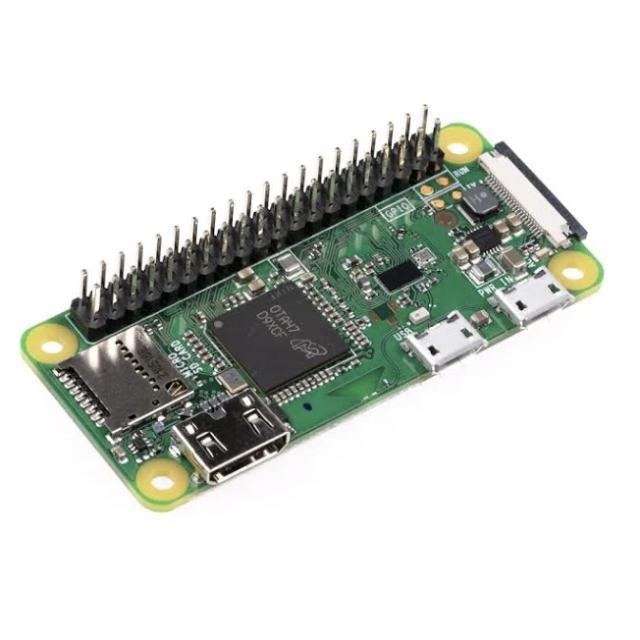Raspberry-Pi-Zero-WH: (22, 109, 595, 508)
